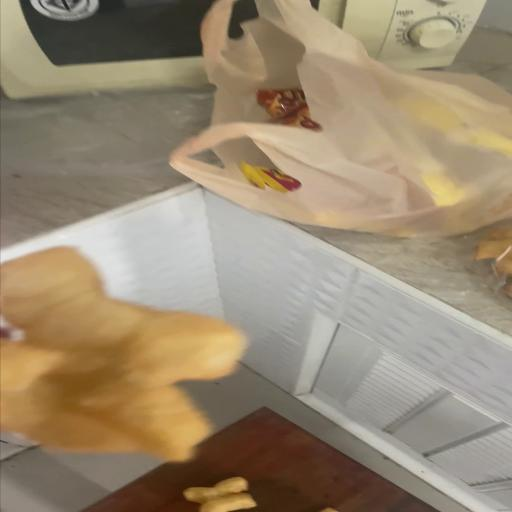street_golden_defect: (167, 3, 510, 238)
street_golden_good: (1, 248, 242, 461)
